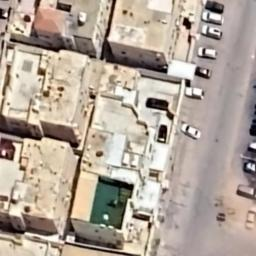SUV: (198, 12, 229, 26), (197, 26, 227, 40)
sedan: (180, 121, 204, 139), (196, 46, 220, 60), (183, 84, 203, 100), (242, 205, 256, 227), (236, 182, 256, 197), (204, 0, 226, 12), (241, 161, 256, 175)
